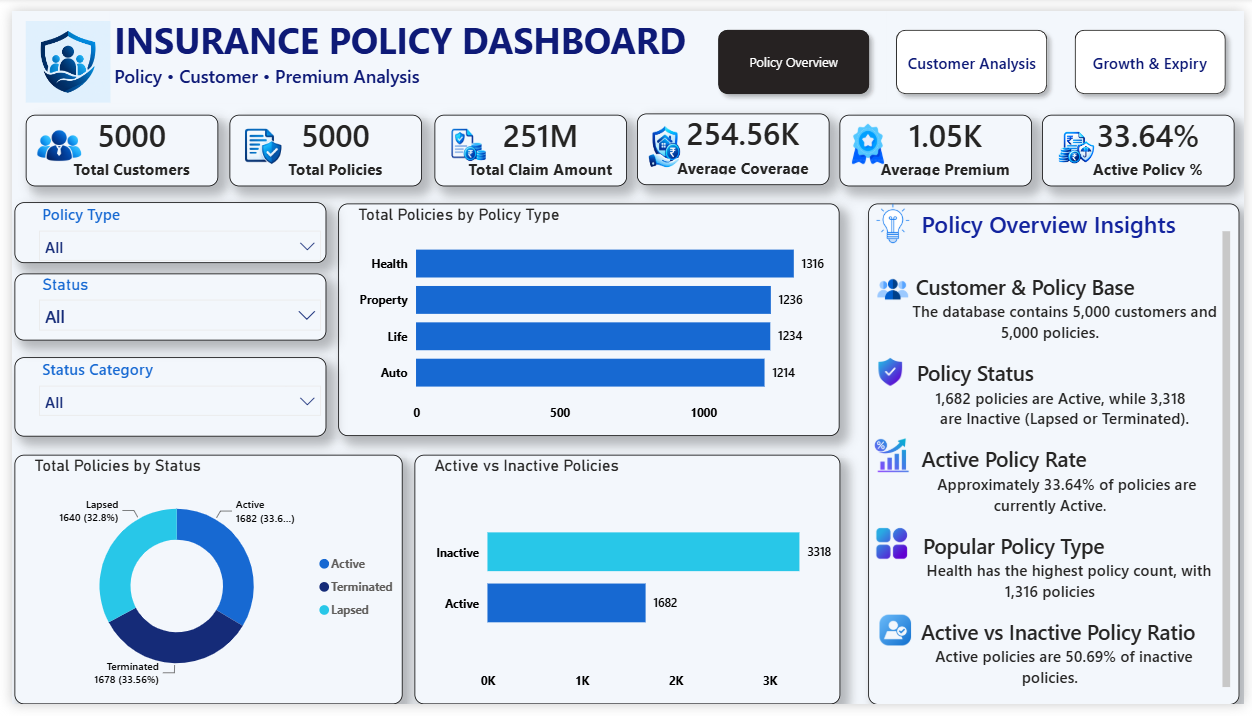

What the dashboard file says about the page in this screenshot:
{"tool":"powerbi","page":{"name":"Policy Overview","canvas":[1280,720],"ordinal":0},"visuals":[{"type":"textbox","box":[101.5,0,806.9,96.1],"z":0},{"type":"image","box":[13.7,11,87.8,85.1],"z":1000},{"type":"pageNavigator","box":[724.5,11,546.1,85.1],"z":2000},{"type":"card","fields":{"Values":["Customer Information.Total Customers"]},"box":[13.7,108.4,200.3,74.1],"z":3000},{"type":"image","box":[13.7,107,70,67.2],"z":4000},{"type":"card","fields":{"Values":["Policy Details.Total Policies"]},"box":[226.4,108.4,200.3,74.1],"z":5000},{"type":"image","box":[226.4,108.4,70,65.9],"z":6000},{"type":"card","fields":{"Values":["Claims.Total Claim Amount"]},"box":[439.1,108.4,200.3,74.1],"z":7000},{"type":"card","fields":{"Values":["Policy Details.Average Coverage"]},"box":[649.1,107,200.3,74.1],"z":8000},{"type":"card","fields":{"Values":["Policy Details.Average Premium"]},"box":[860.4,108.4,200.3,74.1],"z":9000},{"type":"card","fields":{"Values":["Policy Details.Active Policy %"]},"box":[1070.3,108.4,200.3,74.1],"z":10000},{"type":"image","box":[439.1,108.4,65.9,61.7],"z":11000},{"type":"image","box":[649.1,112.5,56.3,56.3],"z":12000},{"type":"image","box":[870,116.6,38.4,42.5],"z":13000},{"type":"image","box":[1081.3,119.4,48,42.5],"z":14000},{"type":"donutChart","fields":{"Category":["Policy Details.Status"],"Y":["Policy Details.Total Policies"]},"box":[2.7,461.1,403.4,259.3],"z":15000},{"type":"clusteredBarChart","title":"Active vs Inactive Policies","fields":{"Category":["Status Category.Status Category"],"Y":["Status Category.Status Count"]},"box":[417.7,461,442.1,259.6],"z":16000},{"type":"clusteredBarChart","fields":{"Category":["Policy Details.Policy Type"],"Y":["Policy Details.Total Policies"]},"box":[339.3,200.1,520.5,242],"z":17000},{"type":"textbox","box":[889.6,200.1,385.3,520.5],"z":18000},{"type":"image","box":[889.6,200.1,51.4,41.9],"z":19000},{"type":"image","box":[893.6,273.1,43.3,32.4],"z":20000},{"type":"image","box":[890.4,359.5,43.4,30.2],"z":21000},{"type":"image","box":[895.2,442.8,38.6,37.4],"z":22000},{"type":"image","box":[895.2,536.9,38.6,33.8],"z":23000},{"type":"slicer","fields":{"Values":["Policy Details.Policy Type"]},"box":[2.7,199,323.8,63.1],"z":24000},{"type":"slicer","fields":{"Values":["Status Category.Status Category"]},"box":[2.7,359.5,323.8,82.3],"z":25000},{"type":"slicer","fields":{"Values":["Policy Details.Status"]},"box":[2.7,273.1,323.8,70],"z":26000},{"type":"image","box":[901.2,621.3,32.6,44.6],"z":27000}]}

Visuals, with their boxes in screenshot pixels (x1, y1, x2, y2), scaled from the page's 1280x720 canvas onto the 1252x716 screenshot:
textbox: [99, 0, 889, 96]
image: [13, 11, 99, 96]
pageNavigator: [709, 11, 1243, 96]
card - Customer Information.Total Customers: [13, 108, 209, 181]
image: [13, 106, 82, 173]
card - Policy Details.Total Policies: [221, 108, 417, 181]
image: [221, 108, 290, 173]
card - Claims.Total Claim Amount: [429, 108, 625, 181]
card - Policy Details.Average Coverage: [635, 106, 831, 180]
card - Policy Details.Average Premium: [842, 108, 1037, 181]
card - Policy Details.Active Policy %: [1047, 108, 1243, 181]
image: [429, 108, 494, 169]
image: [635, 112, 690, 168]
image: [851, 116, 889, 158]
image: [1058, 119, 1105, 161]
donutChart - Policy Details.Status x Policy Details.Total Policies: [3, 459, 397, 715]
"Active vs Inactive Policies" clusteredBarChart: [409, 458, 841, 715]
clusteredBarChart - Policy Details.Policy Type x Policy Details.Total Policies: [332, 199, 841, 440]
textbox: [870, 199, 1247, 715]
image: [870, 199, 920, 241]
image: [874, 272, 916, 304]
image: [871, 358, 913, 388]
image: [876, 440, 913, 478]
image: [876, 534, 913, 568]
slicer - Policy Details.Policy Type: [3, 198, 319, 261]
slicer - Status Category.Status Category: [3, 358, 319, 439]
slicer - Policy Details.Status: [3, 272, 319, 341]
image: [881, 618, 913, 662]
